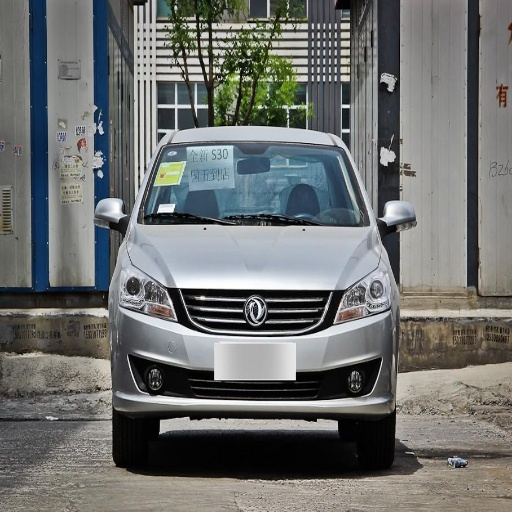front_bumper: (115, 288, 395, 418)
front_right_light: (118, 265, 177, 321)
hood: (128, 223, 379, 289)
left_mirror: (379, 199, 417, 234)
